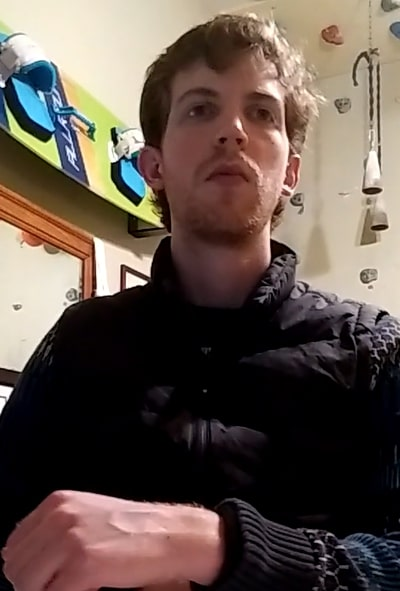Not Sleeping: (176, 85, 293, 134)
